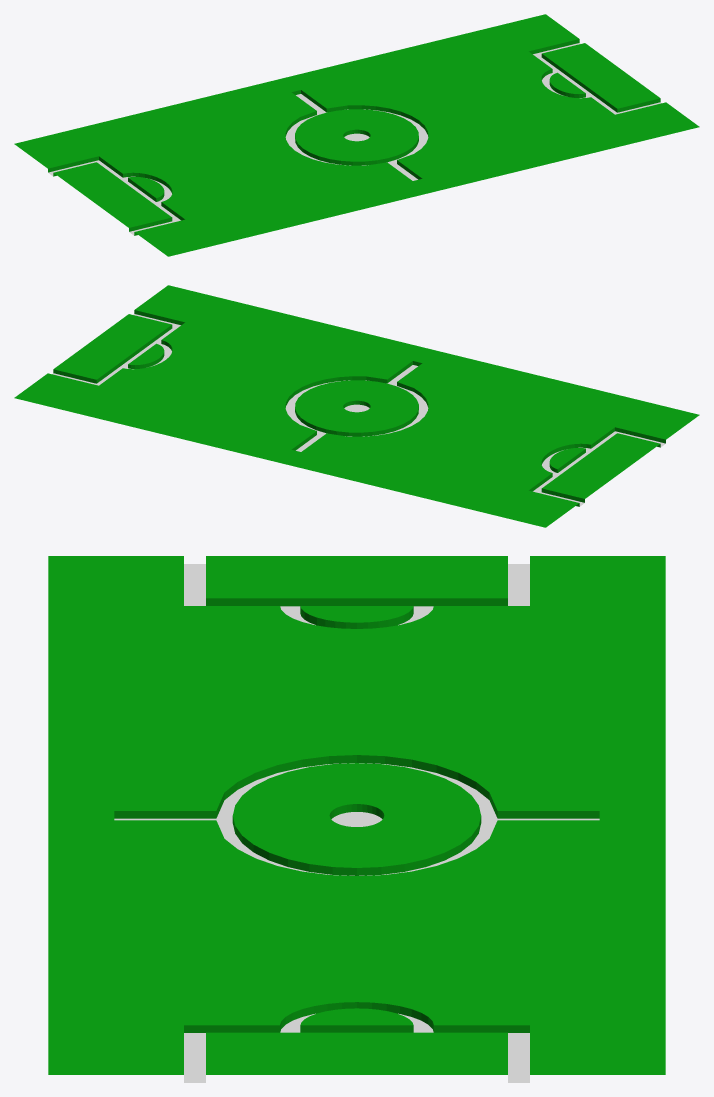
The model's file is plate.glb.
The picture shows the model from 3 angles, top to bottom: view 1: azimuth 30°, elevation 25°; view 2: azimuth 150°, elevation 25°; view 3: azimuth 270°, elevation 25°; orthographic projection. The views are drawn at different scales.
Visible parts, largest first — view 1: Cube.001; view 2: Cube.001; view 3: Cube.001.
Part boxes in pixels (x1,y1,x2,y2): Cube.001: (14,14,699,256); Cube.001: (14,285,699,527); Cube.001: (48,556,665,1082).
Size of the model in its own units: 35.82 by 0.2532 by 18.
